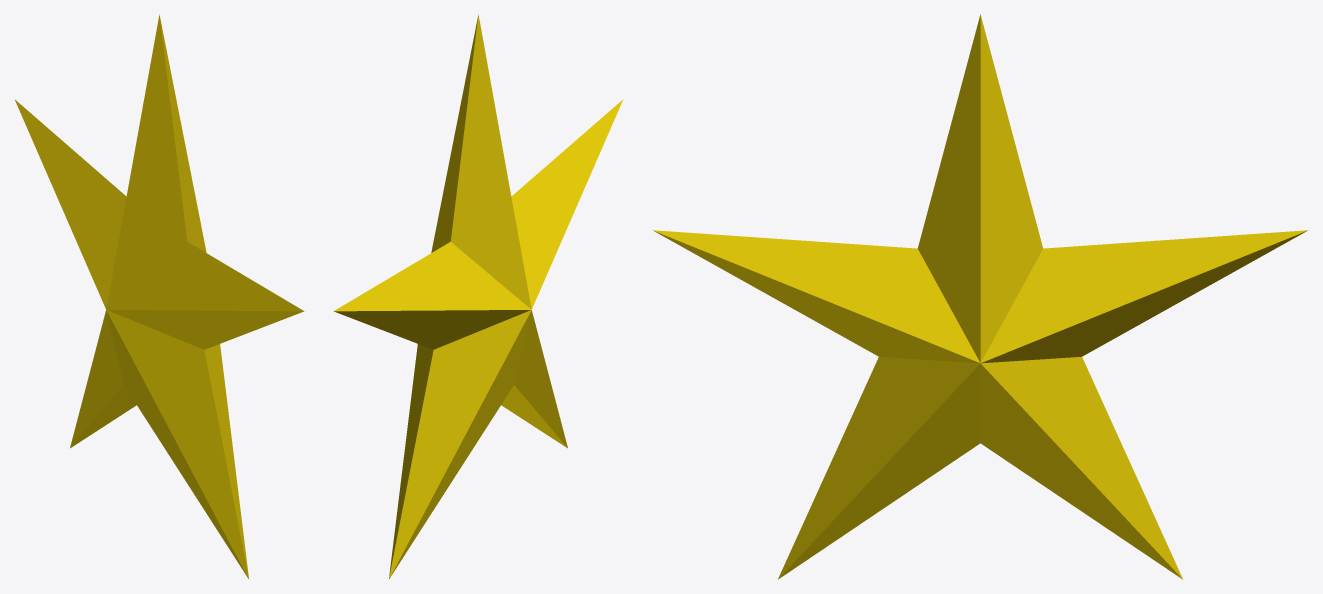
File: star_2.fbx
3 views of the same model, side by side, from view 1: azimuth 30°, elevation 25°; view 2: azimuth 150°, elevation 25°; view 3: azimuth 270°, elevation 25° (orthographic). The views are drawn at different scales.
Parts seen in each view (by area): view 1: star_2; view 2: star_2; view 3: star_2.
Boxes of the visible parts, x1=… form: star_2: x1=14, y1=14, x2=304, y2=578; star_2: x1=333, y1=14, x2=623, y2=578; star_2: x1=653, y1=14, x2=1307, y2=579.
Bounding box in the file's own units: 45.68 × 205 × 216.
